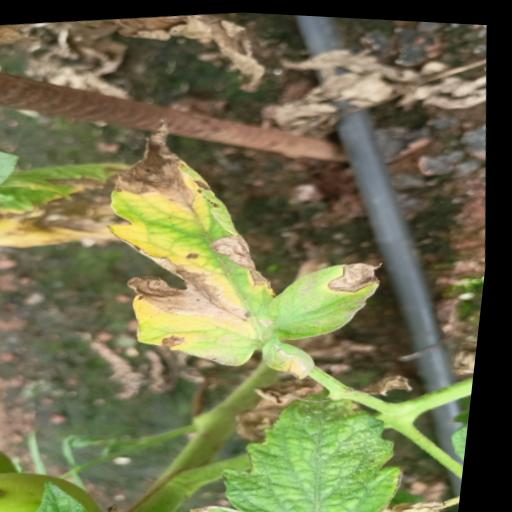Early Blight: (85, 89, 413, 384)
